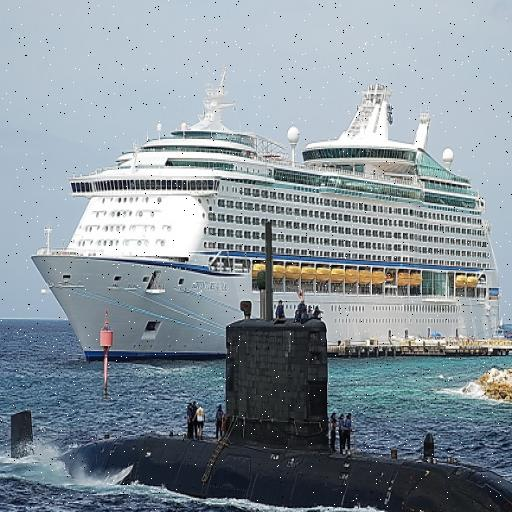submarine: (7, 315, 512, 512)
